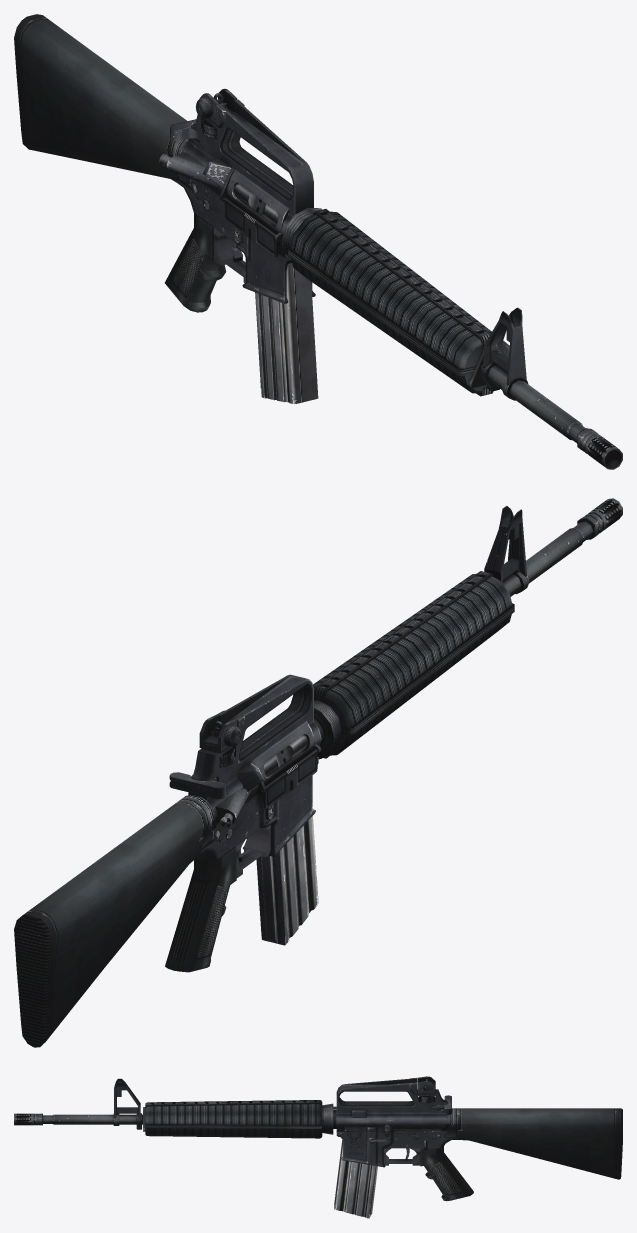
The picture shows the model from 3 angles, top to bottom: view 1: azimuth 30°, elevation 25°; view 2: azimuth 150°, elevation 25°; view 3: azimuth 270°, elevation 25°; orthographic projection. The views are drawn at different scales.
Parts seen in each view (by area): view 1: Model; view 2: Model; view 3: Model.
Part boxes in pixels (x1,y1,x2,y2): Model: (14,14,622,469); Model: (14,498,622,1047); Model: (14,1076,622,1218).
Size of the model in its own units: 0.0411 by 0.1484 by 0.6.
Materials: 7 (7 with a texture image).
